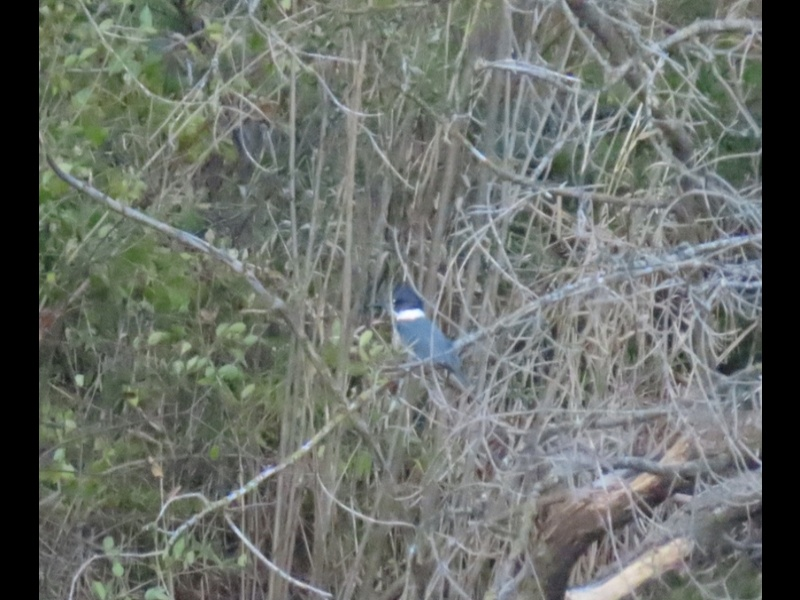kingfisher: (386, 280, 462, 377)
